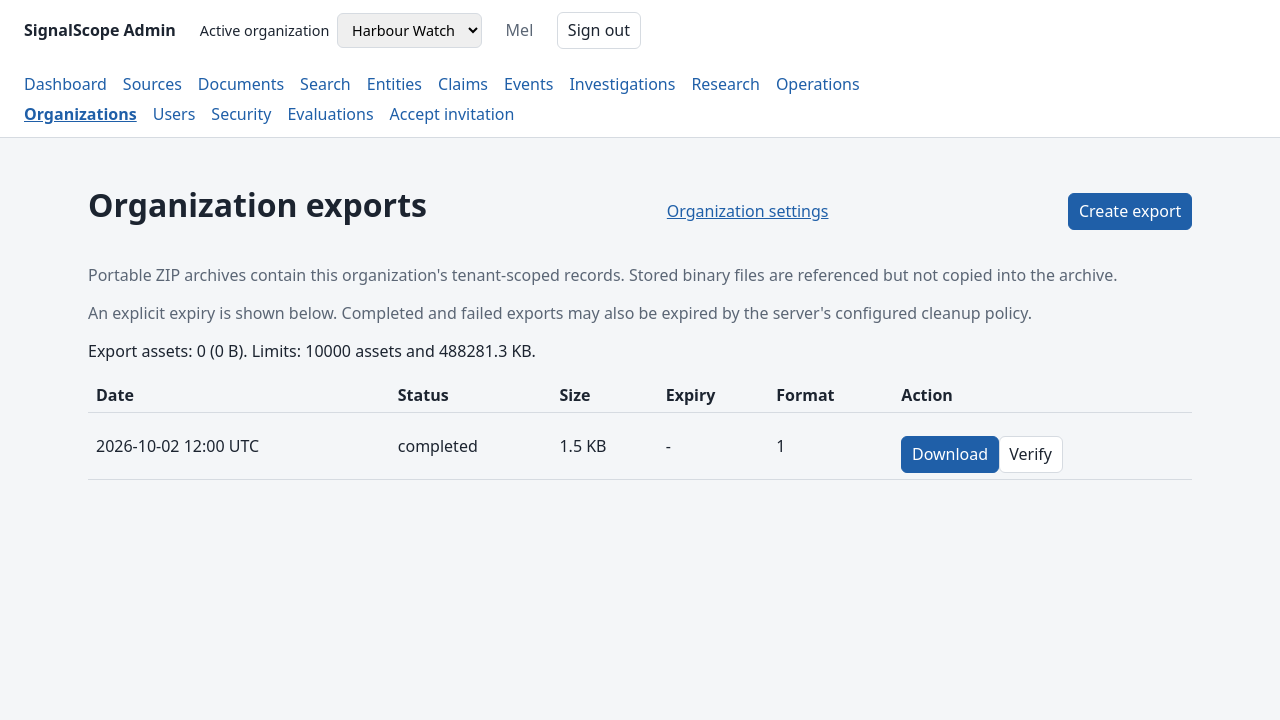
Test: organization exports › clears verification when the active organization changes
Click the button "Verify".
click(1031, 454)  # box 999,436 -> 1063,473
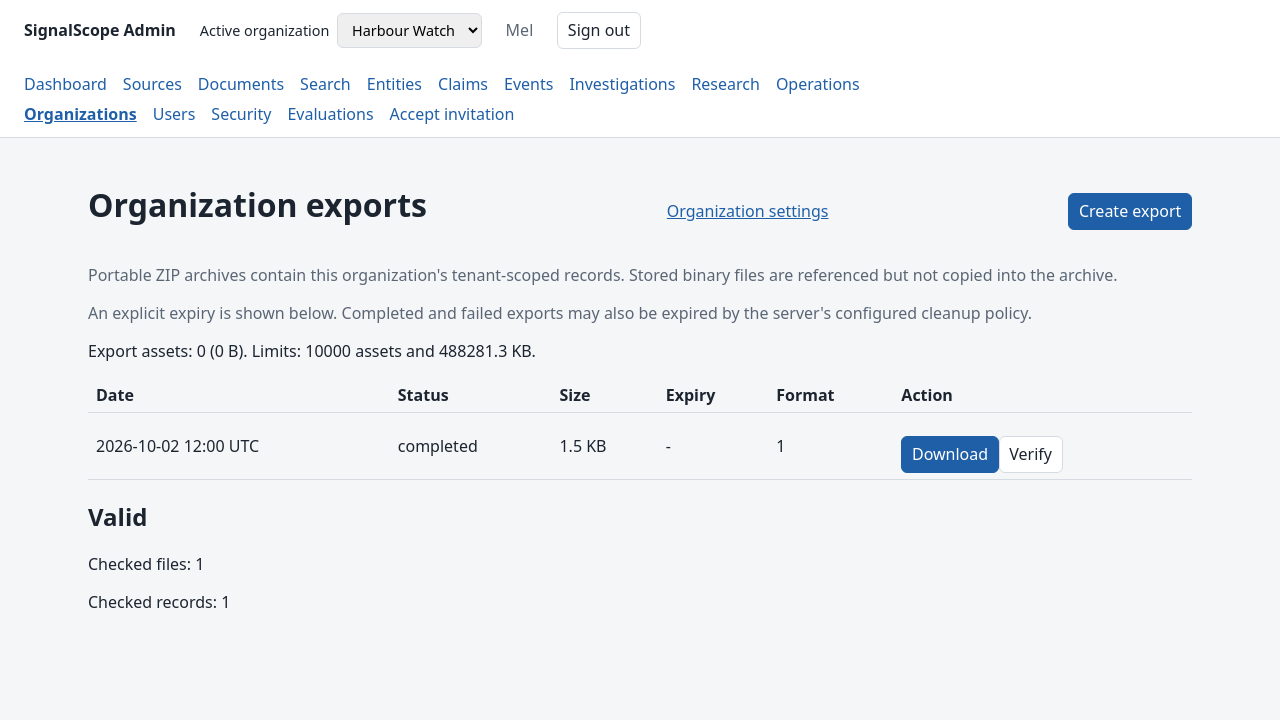
Expected: the heading "Valid" is shown, 88,500 -> 148,533
Select "City Desk" in the dropdown labelled "Active organization" at (410, 30), box 337,12 -> 482,48
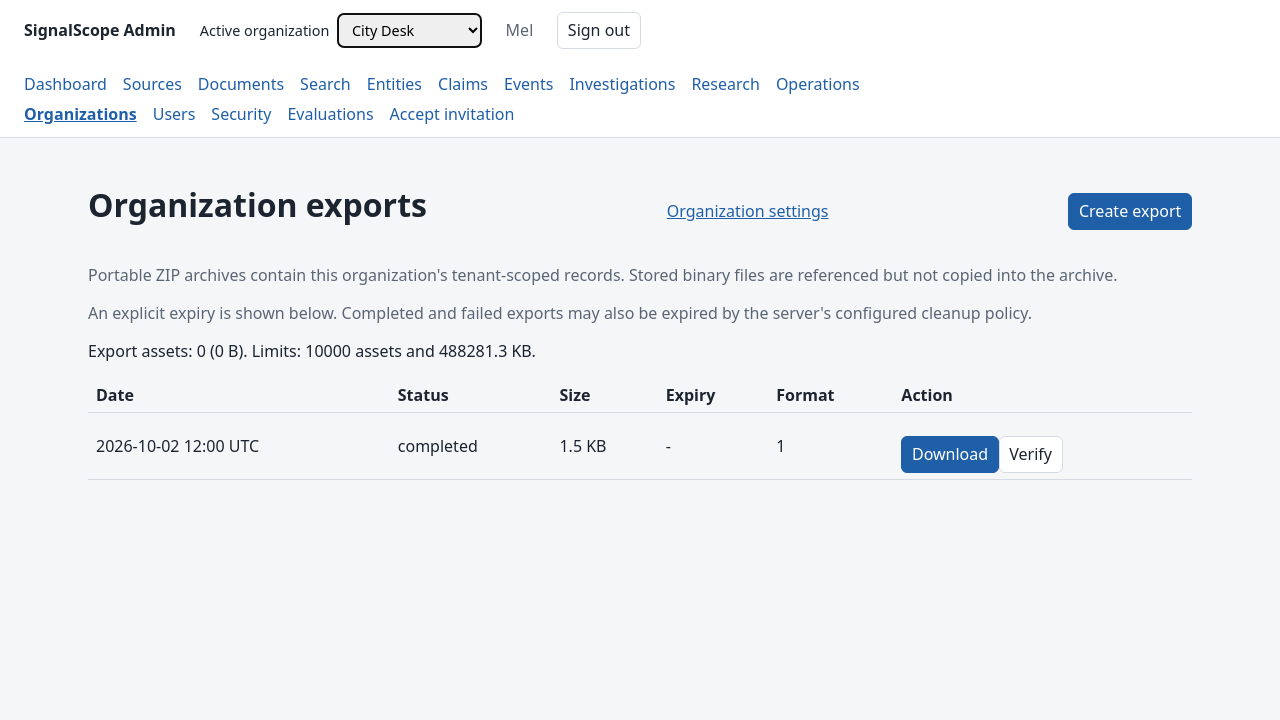
Expected: the heading "Valid" is gone
